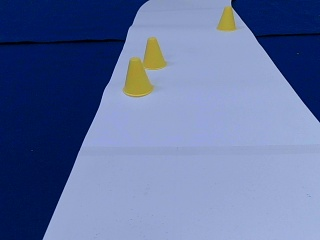cone: (122, 59, 153, 96), (141, 38, 166, 69), (217, 7, 235, 30)
